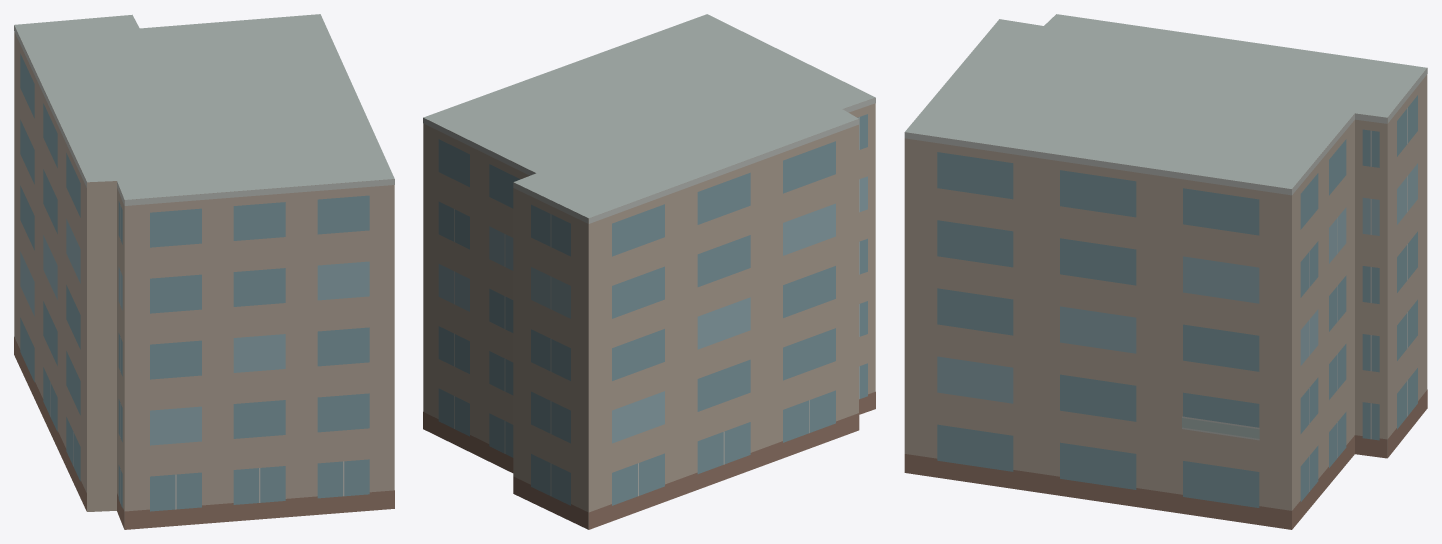
Rendered from survey-upis-32709040.glb.
The picture shows the model from 3 angles, left to right: view 1: azimuth 30°, elevation 25°; view 2: azimuth 150°, elevation 25°; view 3: azimuth 270°, elevation 25°; orthographic projection. The views are drawn at different scales.
Visible parts, largest first — view 1: survey-upis-32709040.tmp; view 2: survey-upis-32709040.tmp; view 3: survey-upis-32709040.tmp.
Boxes of the visible parts, bbox=[...] form: survey-upis-32709040.tmp: bbox=[14, 14, 394, 529]; survey-upis-32709040.tmp: bbox=[423, 14, 875, 529]; survey-upis-32709040.tmp: bbox=[904, 14, 1427, 529].
Bounding box in the file's own units: 14.67 × 13.3 × 18.5.
